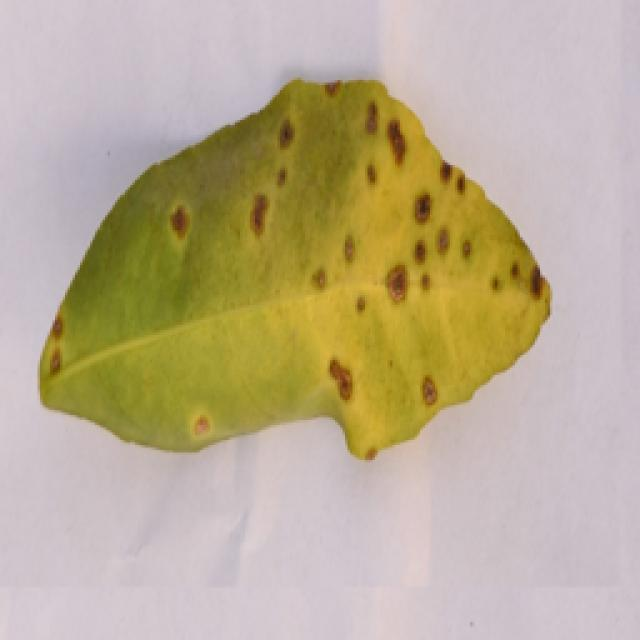canker: (36, 78, 564, 463)
